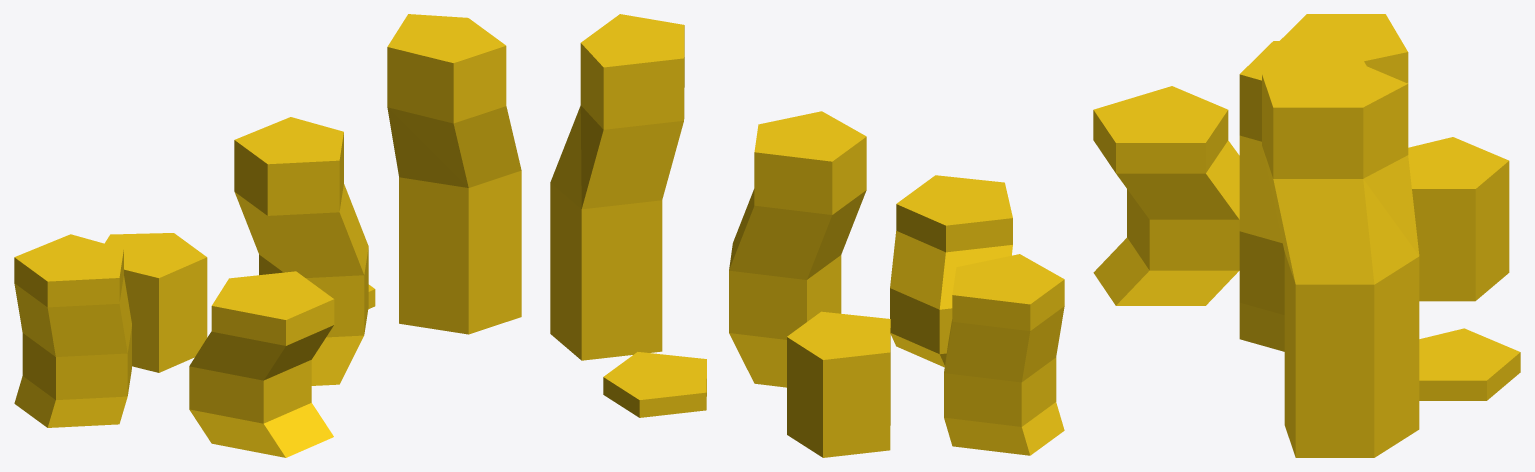
File: inv_stack_coins_1000.obj
3 views of the same model, side by side, from view 1: azimuth 30°, elevation 25°; view 2: azimuth 150°, elevation 25°; view 3: azimuth 270°, elevation 25° (orthographic). The views are drawn at different scales.
Bounding box in the file's own units: 0.4453 × 0.2578 × 0.2969.
